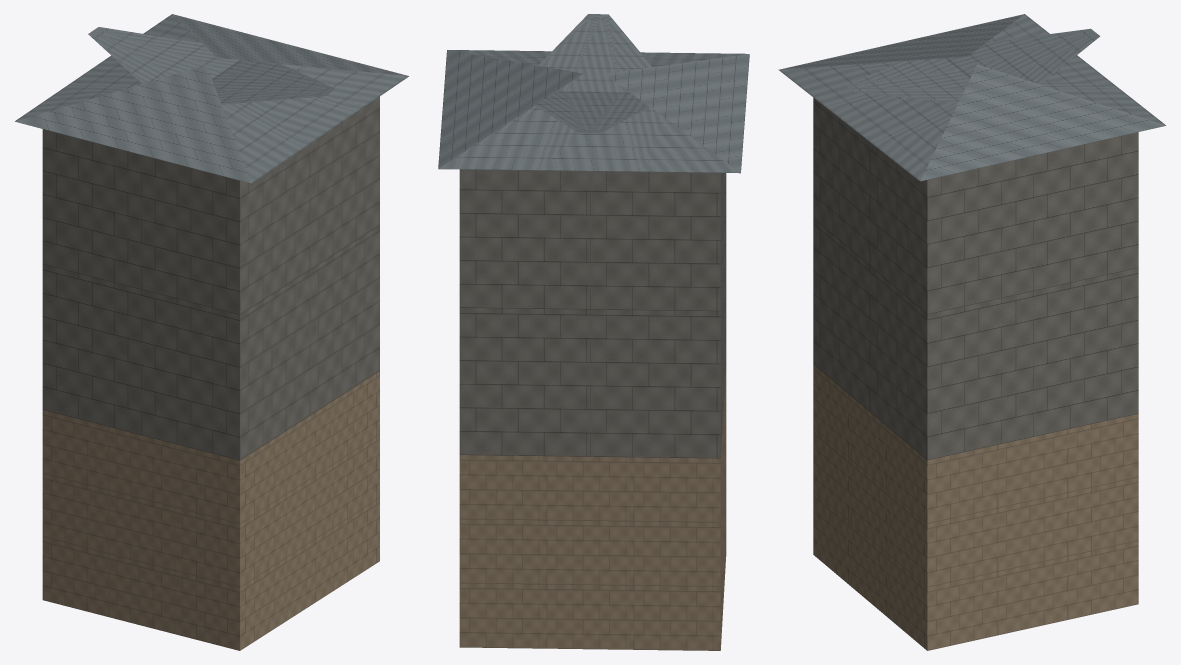
Rendered from bld_c-19_18_515.gltf.
3 renders of one model, left to right at view 1: azimuth 30°, elevation 25°; view 2: azimuth 150°, elevation 25°; view 3: azimuth 270°, elevation 25°, orthographic.
Visible parts, largest first — view 1: bld_c-19_18_515; view 2: bld_c-19_18_515; view 3: bld_c-19_18_515.
Part boxes in pixels (box(x1,y1,x2,y2)): bld_c-19_18_515: box(15, 14, 408, 650); bld_c-19_18_515: box(438, 14, 749, 650); bld_c-19_18_515: box(778, 14, 1165, 650).
Size of the model in its own units: 9.62 by 13.9 by 9.41.
Materials: 3 (3 with a texture image).
